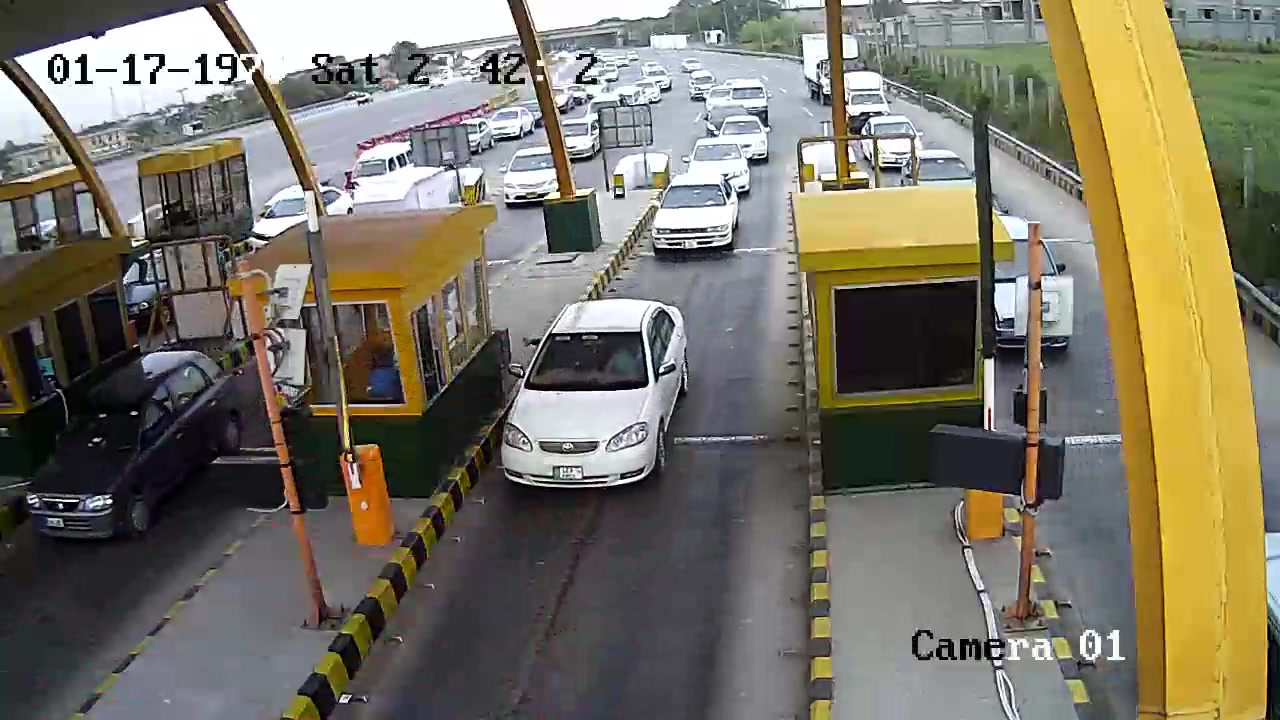F1: (484, 284, 706, 508)
